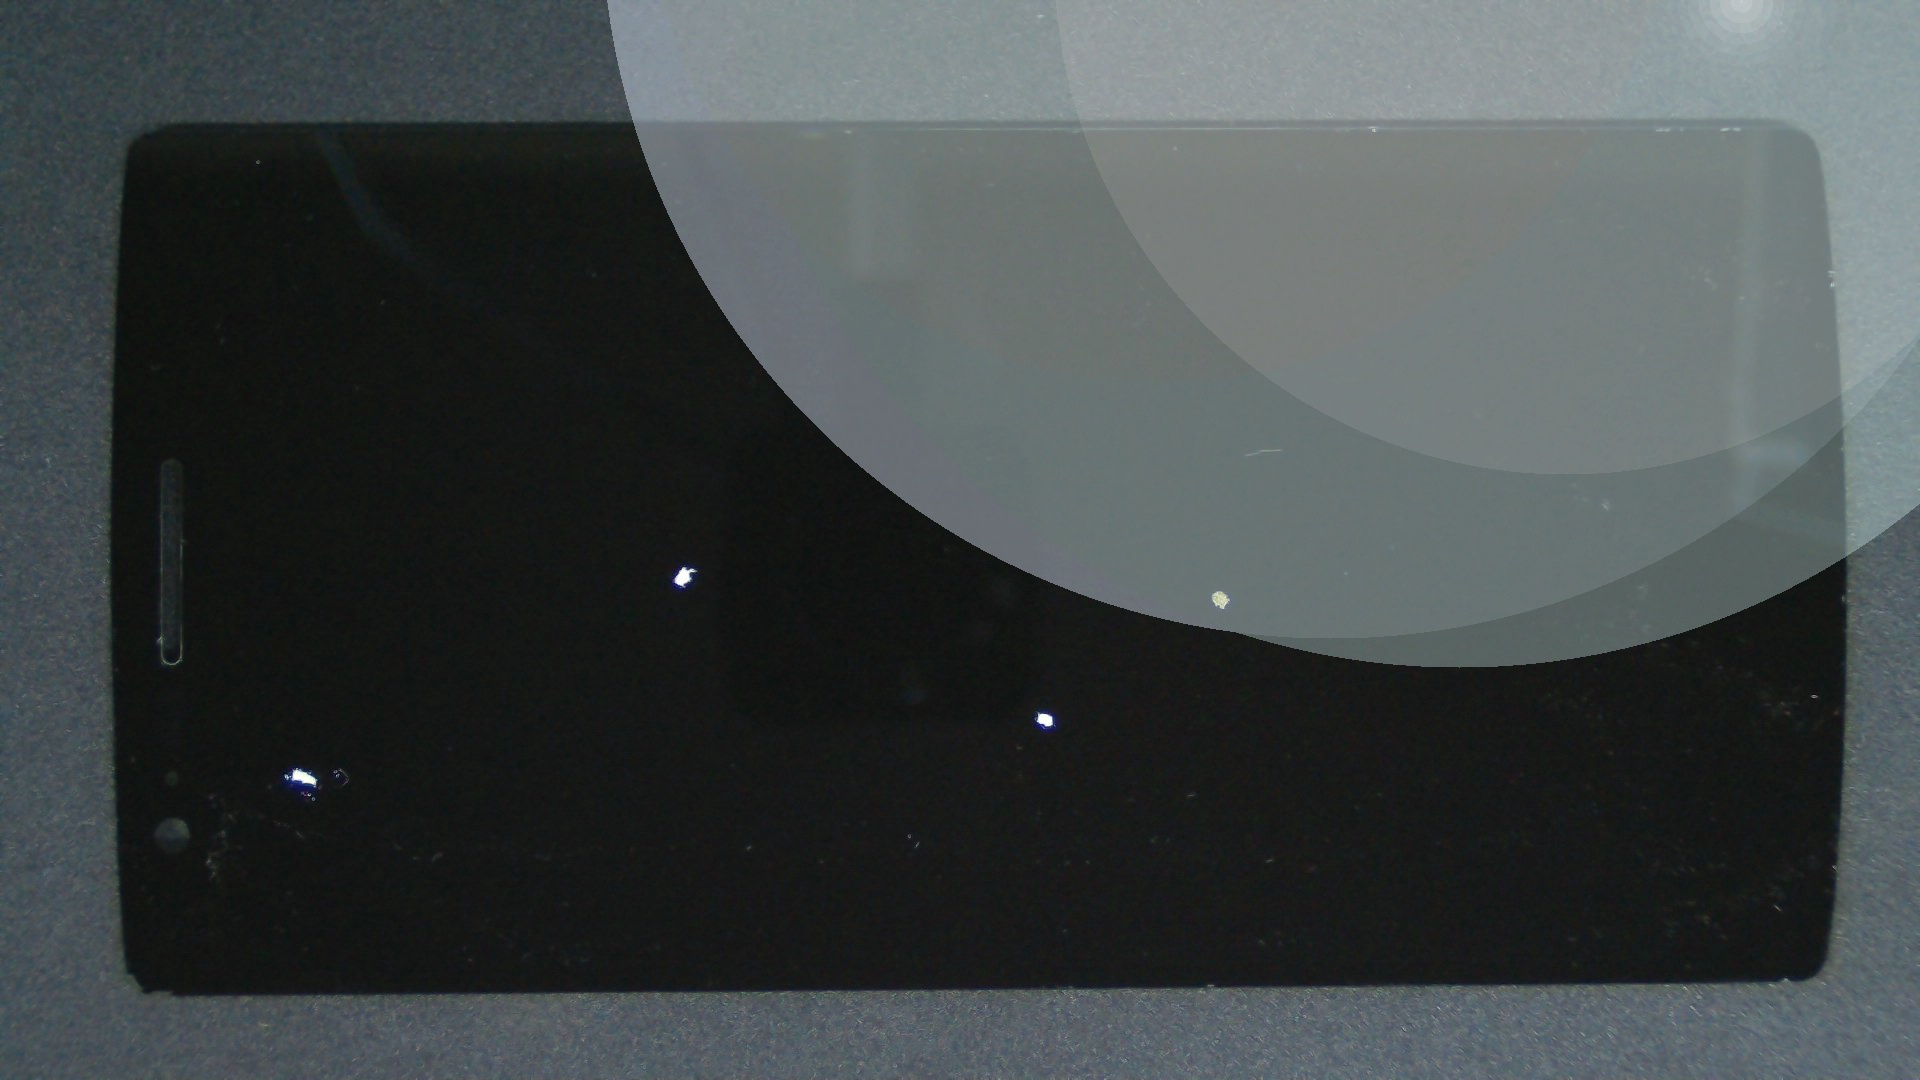oil: (524, 353, 1571, 1064), (609, 294, 1826, 882), (343, 281, 1019, 851), (148, 381, 438, 1080)
